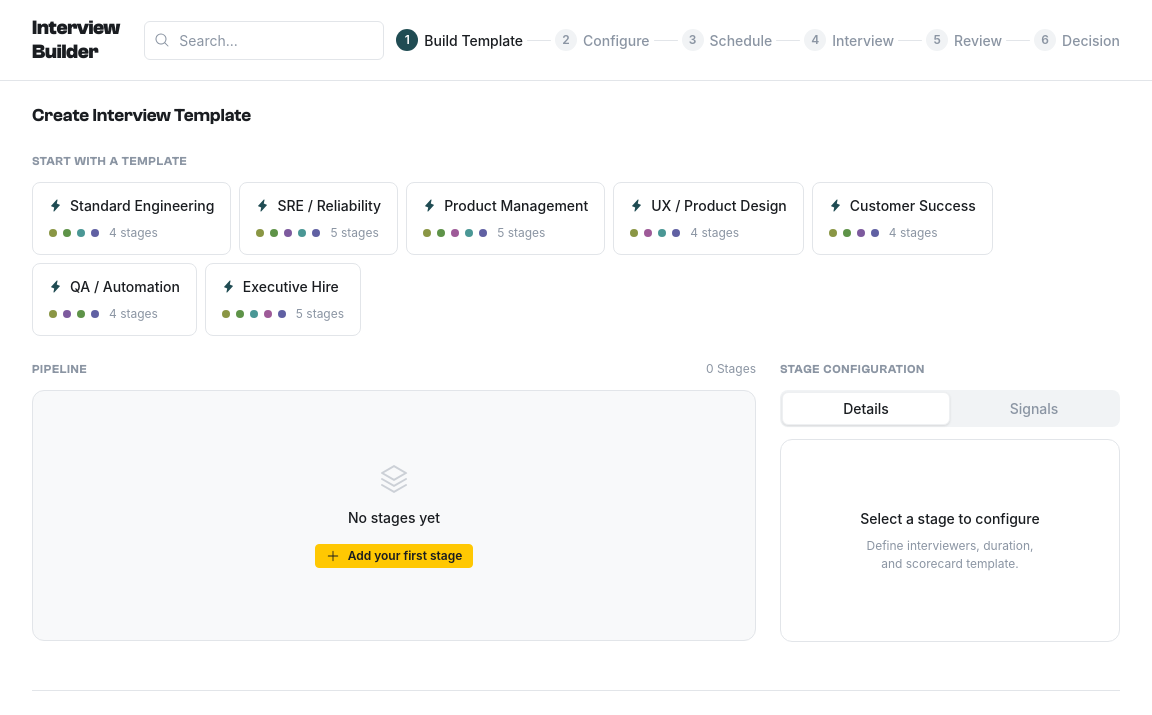
Scenario: Builder page › populates stages when a template is loaded
Click the Standard Engineering template (4 stages: screening, single, panel, debrief)
Click the text "Standard Engineering" at (142, 205), box [70, 194, 214, 216]
(page scrolled)
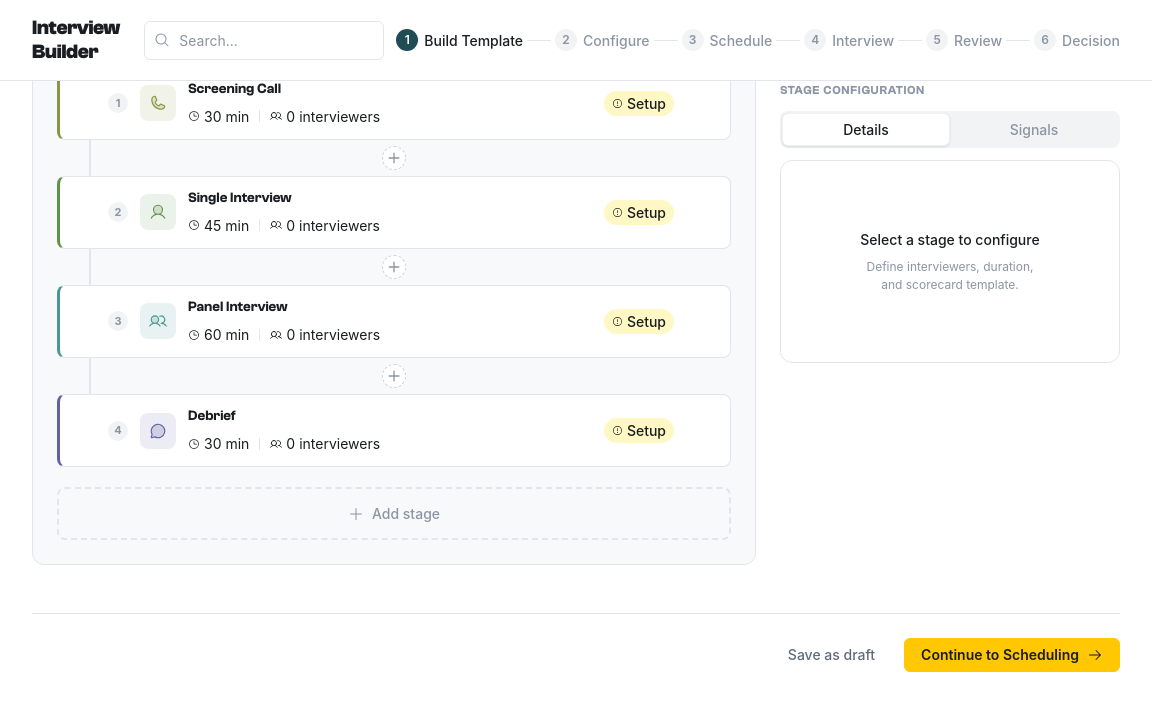
Expected: the text "Screening Call" is shown, [188, 80, 281, 96]
Expected: the text "Single Interview" is shown, [188, 190, 292, 206]
Expected: the text "Panel Interview" is shown, [188, 299, 288, 315]
